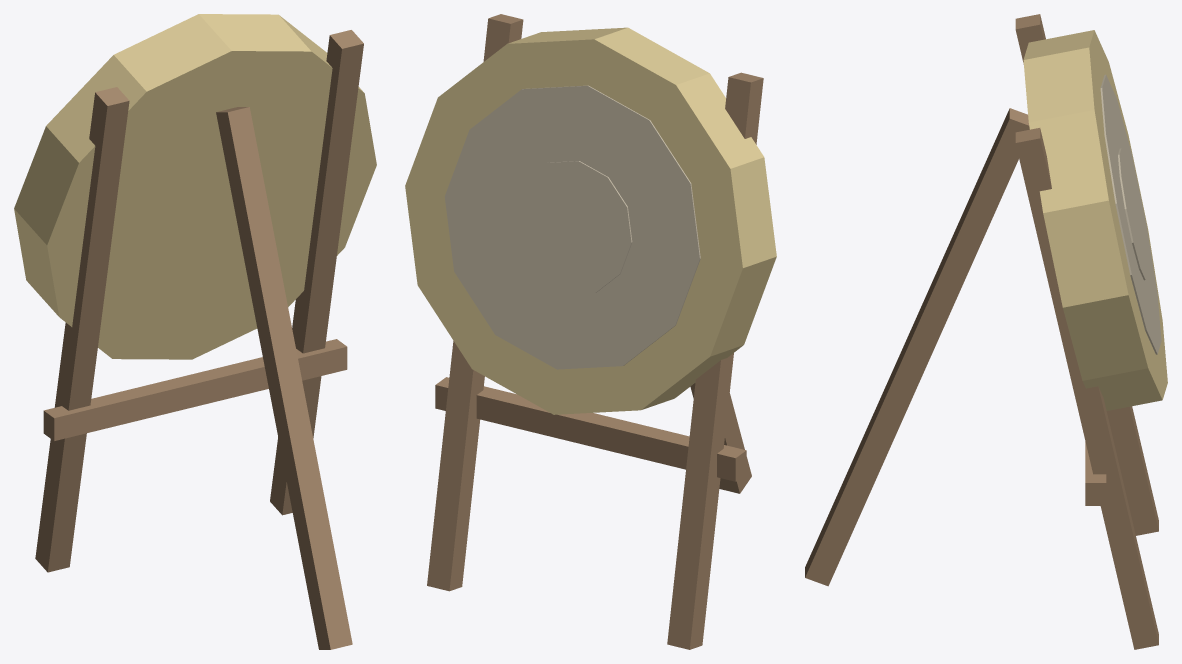
Rendered from prop-archery-target.fbx.
3 renders of one model, left to right at view 1: azimuth 30°, elevation 25°; view 2: azimuth 150°, elevation 25°; view 3: azimuth 270°, elevation 25°, orthographic. The views are drawn at different scales.
Visible parts, largest first — view 1: prop-archery-target; view 2: prop-archery-target; view 3: prop-archery-target.
Part boxes in pixels (x1,y1,x2,y2): prop-archery-target: [14, 14, 376, 649]; prop-archery-target: [405, 14, 776, 649]; prop-archery-target: [805, 14, 1167, 649].
Bounding box in the file's own units: 0.9 × 1.42 × 0.8631.
